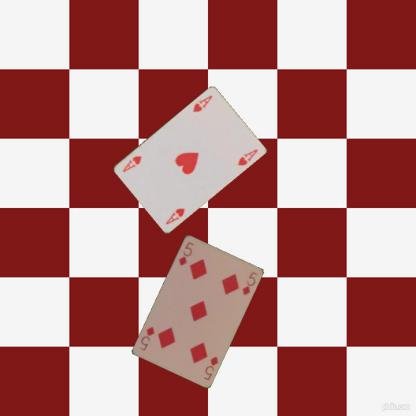5d: (176, 239, 195, 267), (201, 353, 220, 381)
Ah: (190, 93, 214, 114), (163, 206, 185, 226)
